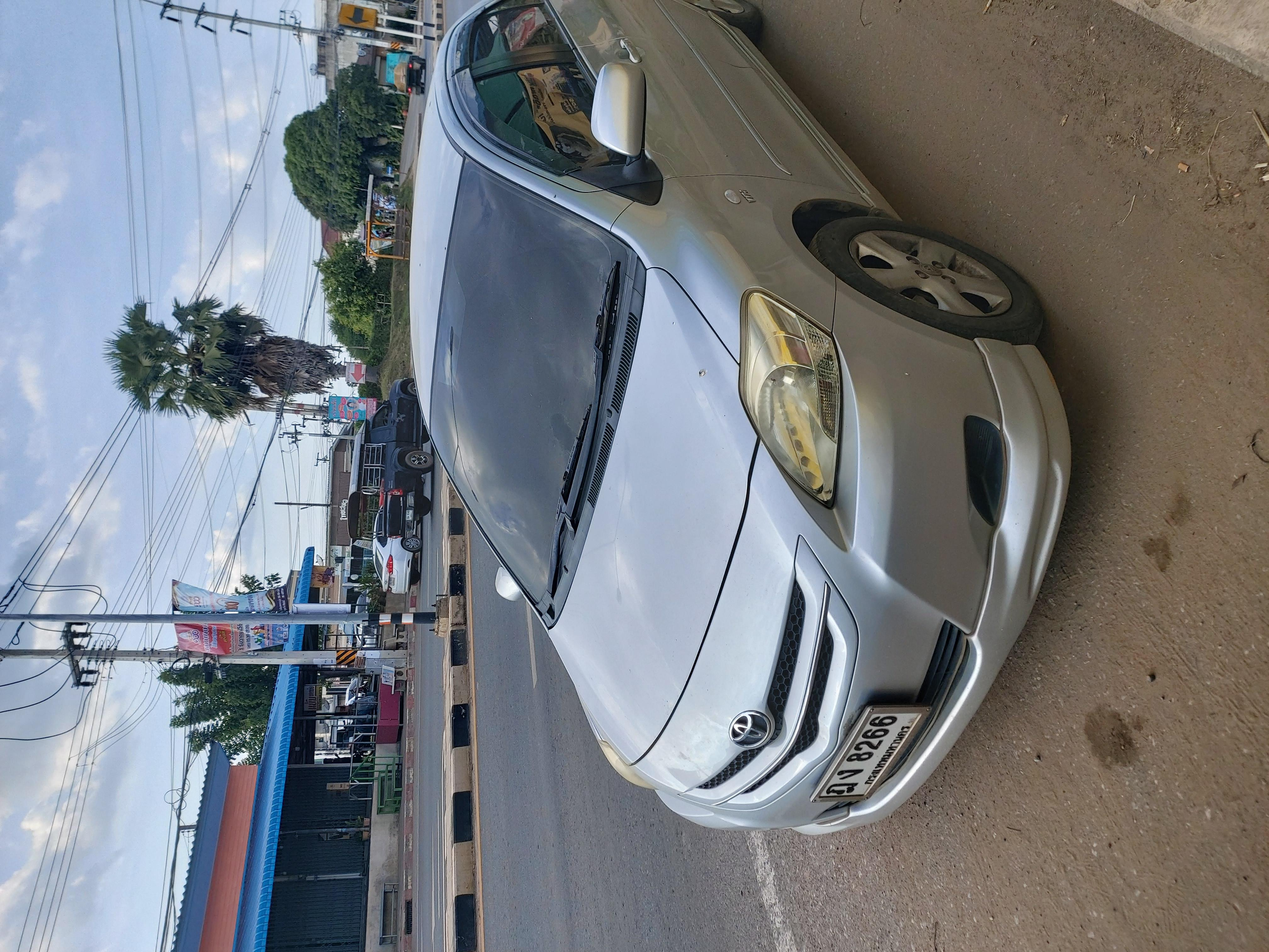license-plate: (203, 611, 324, 694)
